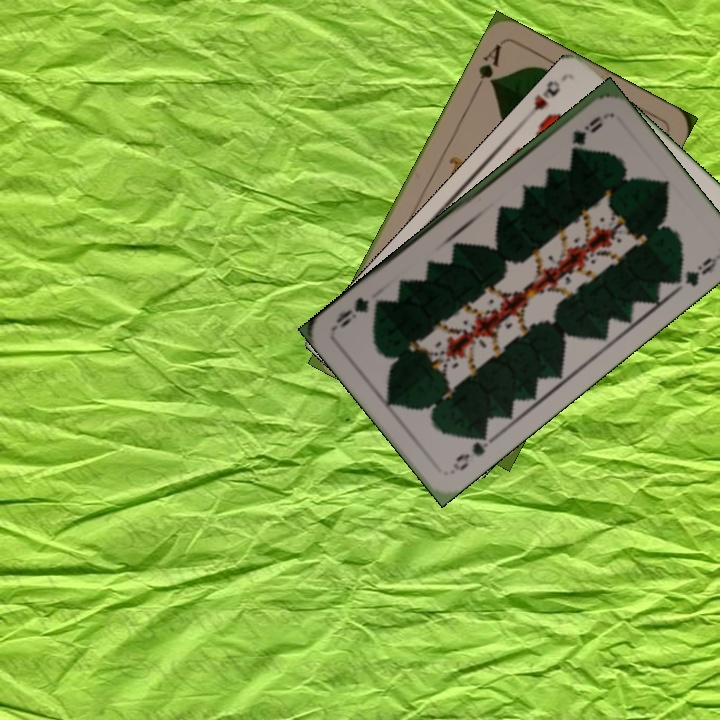G9: (448, 427, 496, 474), (567, 111, 605, 147)
GA: (470, 39, 504, 94)
H9: (524, 76, 563, 121)
